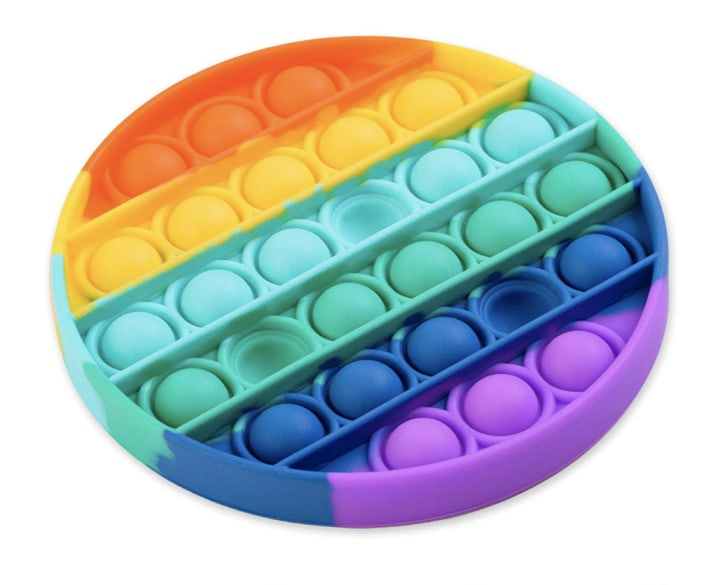toy: (10, 10, 606, 490)
